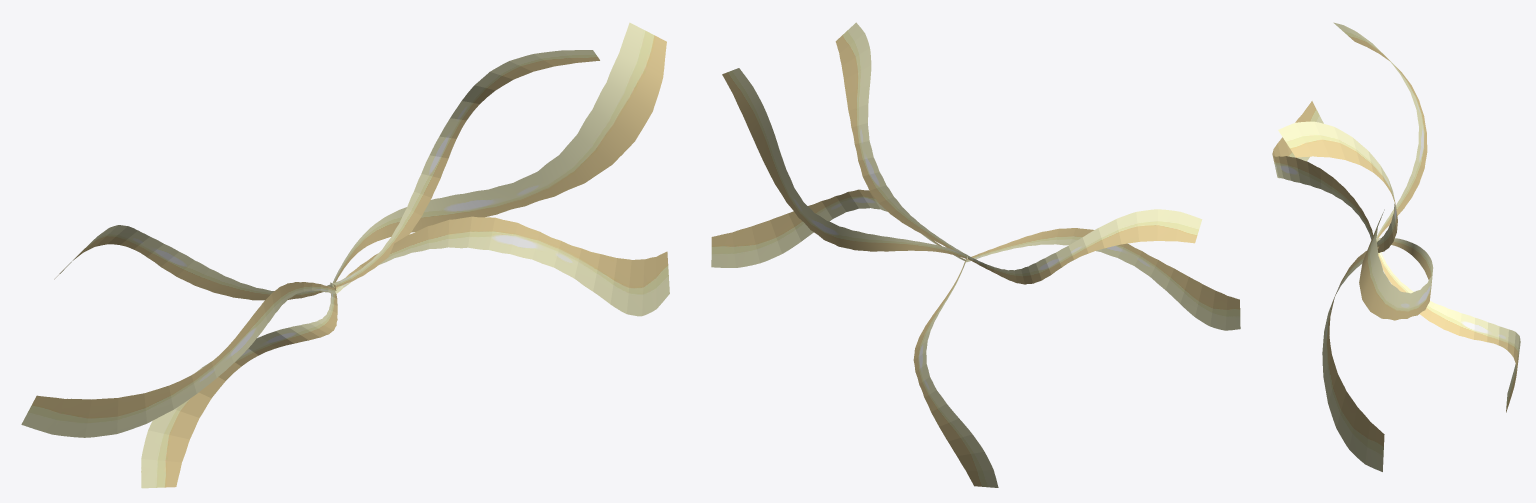
The model's file is fx_m10907_skill01.fbx.
3 views of the same model, side by side, from view 1: azimuth 30°, elevation 25°; view 2: azimuth 150°, elevation 25°; view 3: azimuth 270°, elevation 25° (orthographic). The views are drawn at different scales.
Visible parts, largest first — view 1: helix; view 2: helix; view 3: helix.
Part boxes in pixels (<box>): helix: <box>21,22,669,488</box>; helix: <box>711,22,1240,487</box>; helix: <box>1272,22,1520,471</box>.
Bounding box in the file's own units: 1656 × 1088 × 593.
